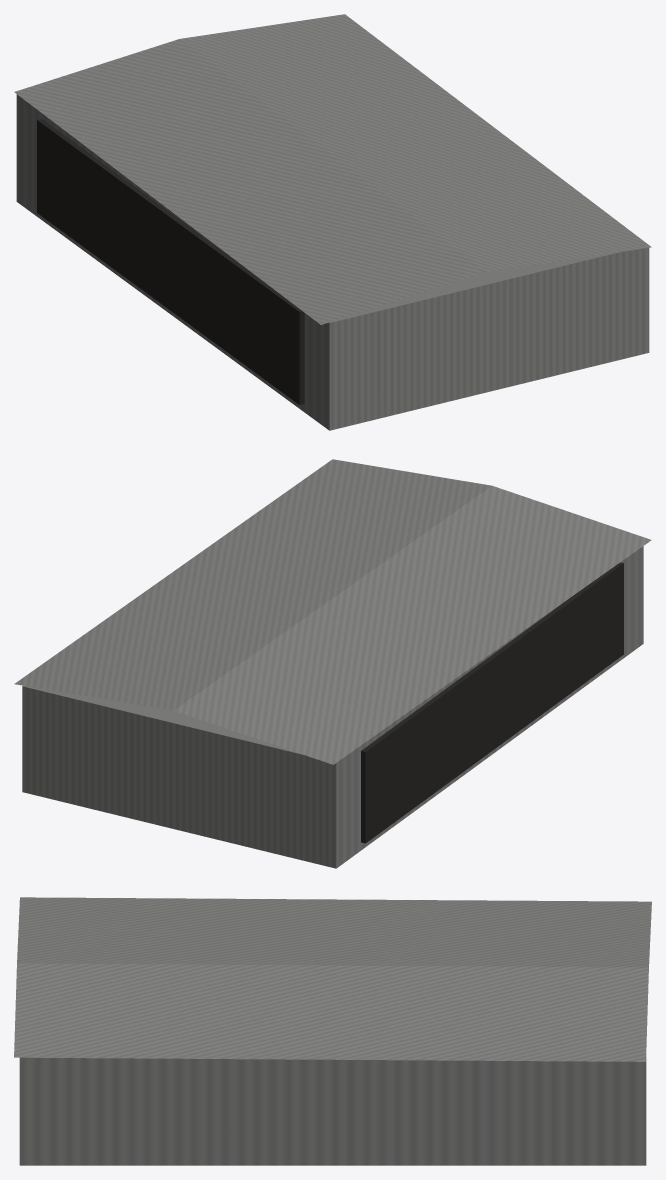
Rendered from sdsc_mro_hangar.glb.
3 renders of one model, top to bottom at view 1: azimuth 30°, elevation 25°; view 2: azimuth 150°, elevation 25°; view 3: azimuth 270°, elevation 25°, orthographic.
Parts seen in each view (by area): view 1: sdsc_mro_hangar; view 2: sdsc_mro_hangar; view 3: sdsc_mro_hangar.
Boxes of the visible parts, bbox=[...] form: sdsc_mro_hangar: bbox=[14, 14, 651, 430]; sdsc_mro_hangar: bbox=[14, 459, 651, 868]; sdsc_mro_hangar: bbox=[14, 897, 651, 1165].
Bounding box in the file's own units: 62.14 × 21.5 × 102.
5 materials, 1 textured.
